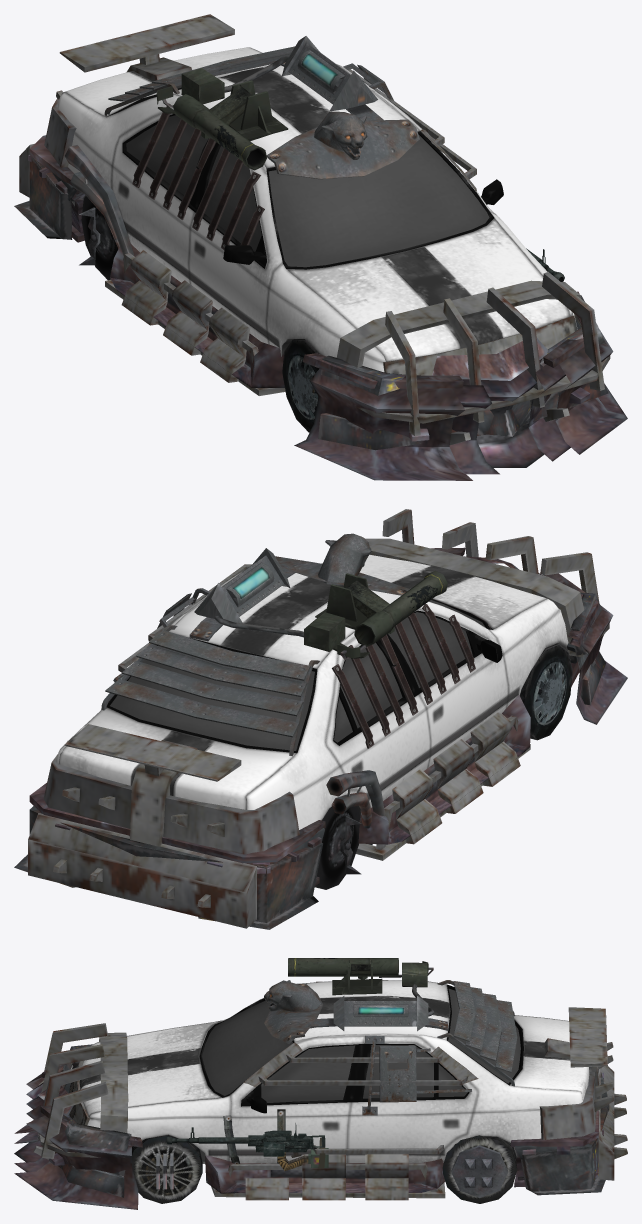
3 renders of one model, top to bottom at view 1: azimuth 30°, elevation 25°; view 2: azimuth 150°, elevation 25°; view 3: azimuth 270°, elevation 25°, orthographic. The views are drawn at different scales.
Visible parts, largest first — view 1: RD_Body, RD_Part, RD_Guard_Front_02, RD_Guard_Front_03, RD_Guard_Right_02, RD_Guard_Right_03, RD_Guard_Back_02, RD_Guard_Top_01, RD_Guard_Front_01, RD_Guard_Back_01, RD_Guard_Top_02, RD_Guard_Right_01 (+4 smaller); view 2: RD_Body, RD_Guard_Back_02, RD_Part, RD_Guard_Back_01, RD_Guard_Front_03, RD_Guard_Right_02, RD_Guard_Right_03, RD_Guard_Top_02, RD_Guard_Front_02, RD_Wheel_Default, RD_Guard_Back_03, RD_Guard_Top_01 (+5 smaller); view 3: RD_Body, RD_Part, RD_Guard_Left_03, RD_Guard_Back_01, RD_Guard_Front_03, RD_Guard_Back_02, RD_Guard_Front_02, RD_Wheel_01, RD_Guard_Left_02, RD_Wheel_02, RD_Guard_Top_02, RD_Guard_Front_01 (+3 smaller).
Part boxes in pixels (box(x1,y1,x2,y2)): RD_Body: box(57, 47, 577, 372); RD_Part: box(107, 68, 564, 281); RD_Guard_Front_02: box(294, 291, 627, 480); RD_Guard_Front_03: box(336, 271, 610, 445); RD_Guard_Right_02: box(110, 104, 284, 387); RD_Guard_Right_03: box(105, 250, 285, 395); RD_Guard_Back_02: box(19, 14, 234, 197); RD_Guard_Top_01: box(266, 111, 419, 179); RD_Guard_Front_01: box(318, 295, 608, 450); RD_Guard_Back_01: box(14, 46, 294, 239); RD_Guard_Top_02: box(224, 36, 387, 124); RD_Guard_Right_01: box(65, 145, 133, 277); RD_Body: box(55, 554, 568, 829); RD_Guard_Back_02: box(28, 724, 299, 928); RD_Part: box(106, 570, 502, 752); RD_Guard_Back_01: box(14, 625, 324, 929); RD_Guard_Front_03: box(365, 509, 609, 657); RD_Guard_Right_02: box(332, 604, 530, 844); RD_Guard_Right_03: box(356, 711, 530, 860); RD_Guard_Top_02: box(189, 548, 303, 641); RD_Guard_Front_02: box(431, 547, 627, 724); RD_Wheel_Default: box(520, 643, 572, 740); RD_Guard_Back_03: box(29, 783, 325, 885); RD_Guard_Top_01: box(275, 533, 409, 595); RD_Body: box(79, 980, 589, 1177); RD_Part: box(166, 958, 523, 1178); RD_Guard_Left_03: box(211, 1042, 478, 1200); RD_Guard_Back_01: box(437, 980, 609, 1195); RD_Guard_Front_03: box(33, 1023, 128, 1159); RD_Guard_Back_02: box(539, 1007, 627, 1180); RD_Guard_Front_02: box(14, 1062, 142, 1209); RD_Wheel_01: box(442, 1135, 517, 1203); RD_Guard_Left_02: box(205, 1137, 445, 1193); RD_Wheel_02: box(132, 1134, 202, 1203); RD_Guard_Top_02: box(305, 984, 447, 1031); RD_Guard_Front_01: box(37, 1044, 131, 1197).
Bounding box in the file's own units: 29.3 × 21.73 × 67.46.
